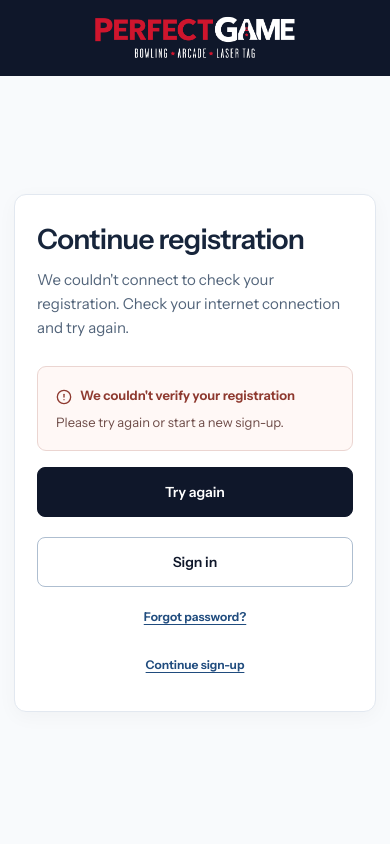
Test: RegistrationEmailPage recovery › reports an exhausted transport failure once and lets the user retry
The width and height of the screenshot is (390, 844).
expect the text "Check your internet connection" is shown: met, box [37,270,340,337]
Click the button with test id "button-registration-status-retry". click: (195,492)
box: [37,467,353,517]
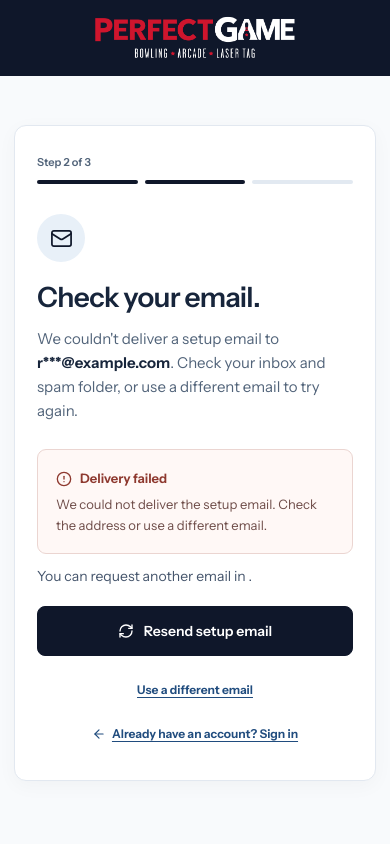
expect the heading "Check your email." is shown: met, box [37,280,260,314]
